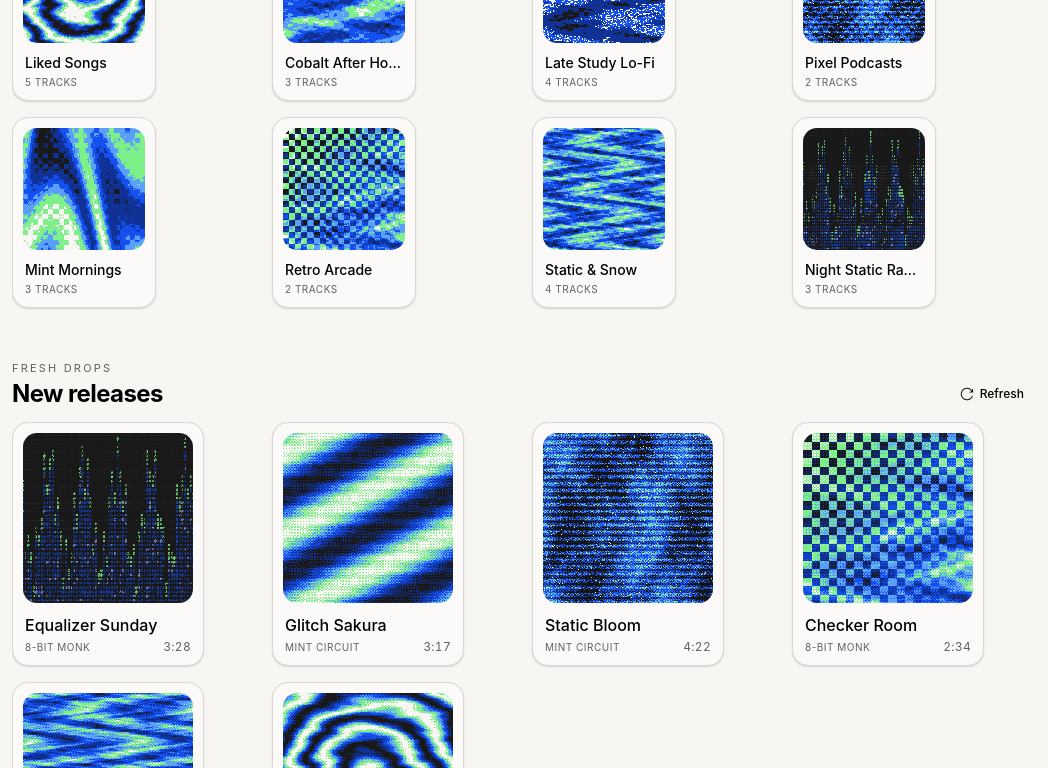
HomeScreen › previews a new release without replacing full playback
(page scrolled)
Step 1. Click the button with aria-label "Preview Equalizer Sunday for 10 seconds" → (108, 544), box [12,422,204,666]
Wait 650 ms
(page scrolled)
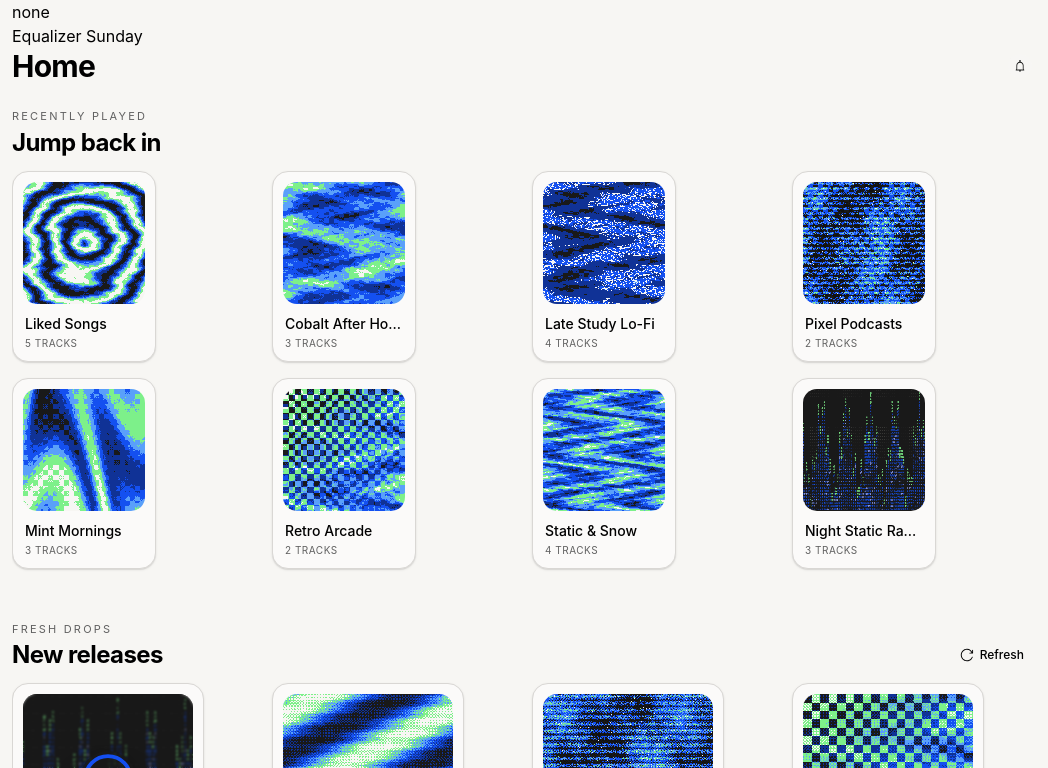
Check: the text with test id "now-playing" reads "none", box [12,2,50,22]
Check: the text with test id "previewing" reads "Equalizer Sunday", box [12,26,143,46]
